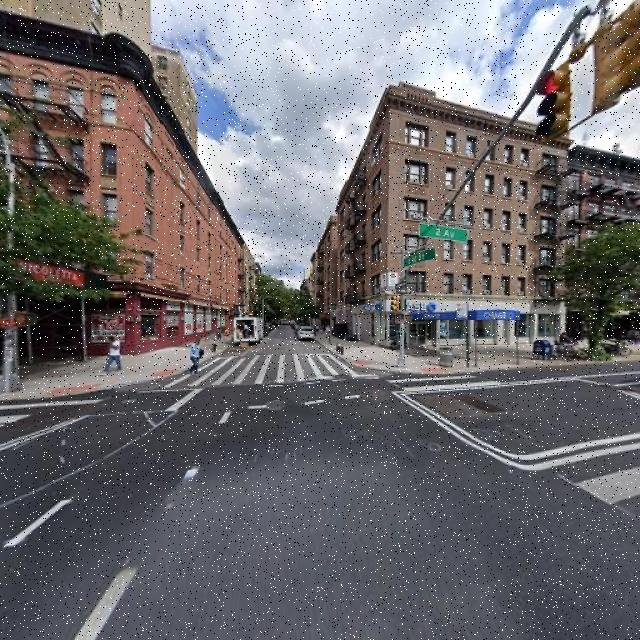Building: (1, 14, 245, 363), (343, 84, 569, 347)
